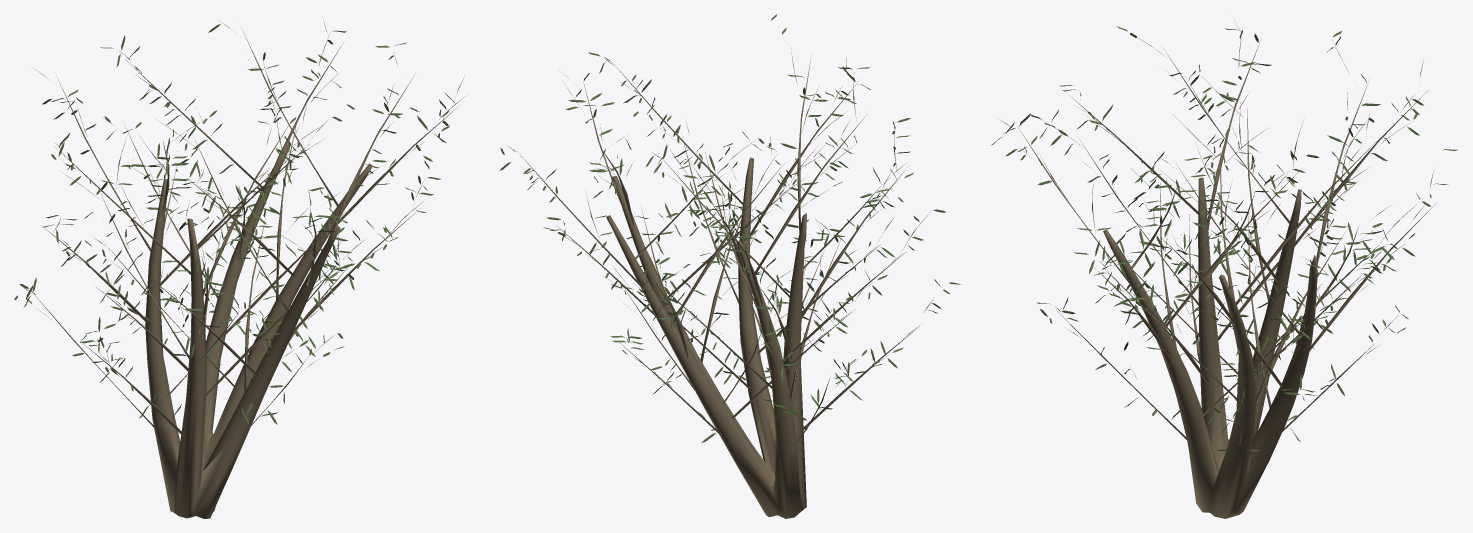
File: Filaire_2_Niveau1.fbx
3 views of the same model, side by side, from view 1: azimuth 30°, elevation 25°; view 2: azimuth 150°, elevation 25°; view 3: azimuth 270°, elevation 25° (orthographic). The views are drawn at different scales.
Parts seen in each view (by area): view 1: Filaire_2_Niveau1; view 2: Filaire_2_Niveau1; view 3: Filaire_2_Niveau1.
Boxes of the visible parts, x1=… form: Filaire_2_Niveau1: x1=14, y1=17, x2=467, y2=518; Filaire_2_Niveau1: x1=499, y1=14, x2=961, y2=518; Filaire_2_Niveau1: x1=991, y1=24, x2=1457, y2=518.
Size of the model in its own units: 151 by 154 by 140.
